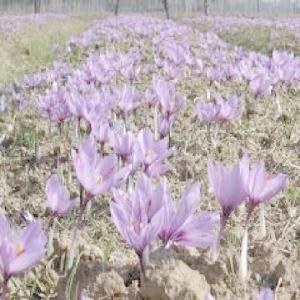Saffron: (150, 181, 209, 246), (74, 136, 128, 201), (0, 214, 46, 284), (114, 193, 160, 262), (207, 157, 249, 218), (248, 166, 285, 212), (133, 128, 168, 168), (215, 92, 242, 124), (194, 101, 219, 123)
